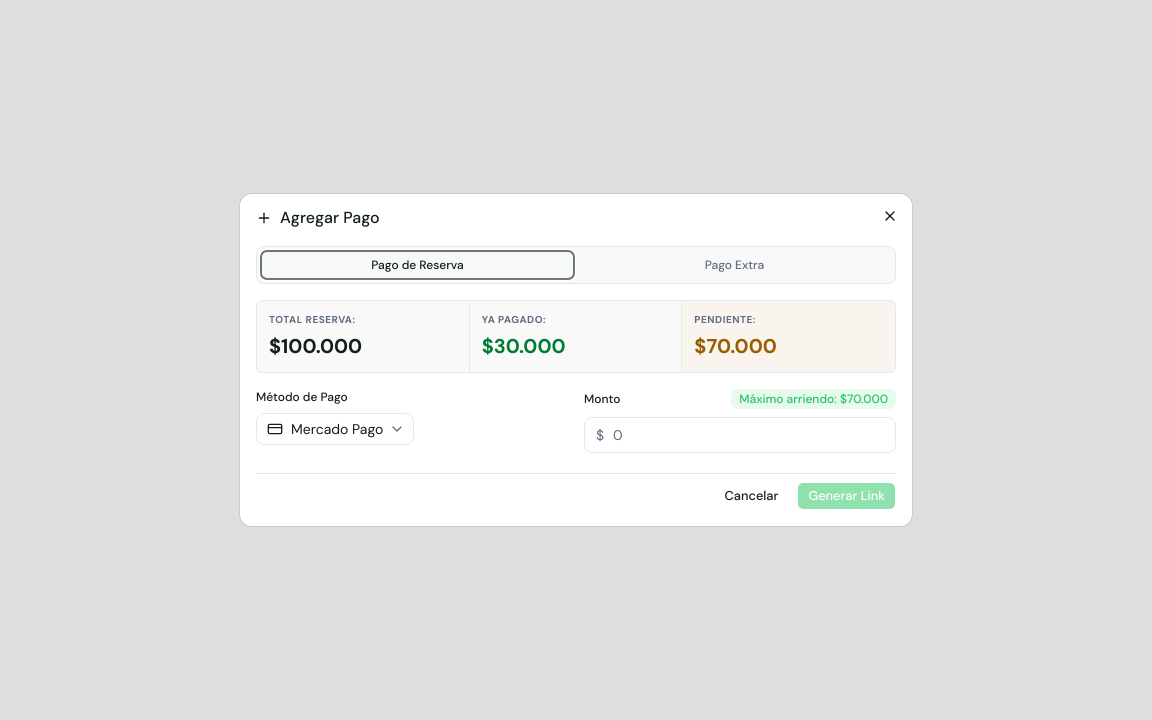
Scenario: AddPaymentDialog - paymentType selector › shows all 3 payment methods available in EXTRA mode
Click the radio button "Pago Extra". click: x=734, y=265
box: x1=578 y1=251 x2=891 y2=279
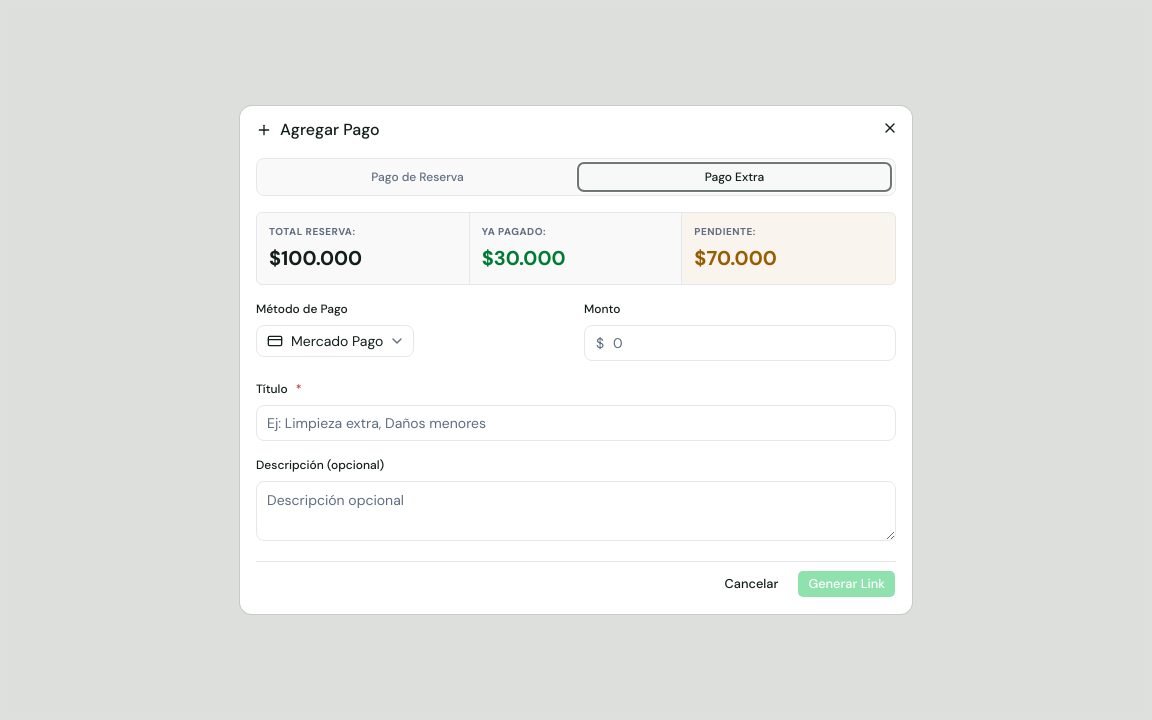
Click the dropdown. click: x=335, y=341
box: x1=256 y1=325 x2=414 y2=357
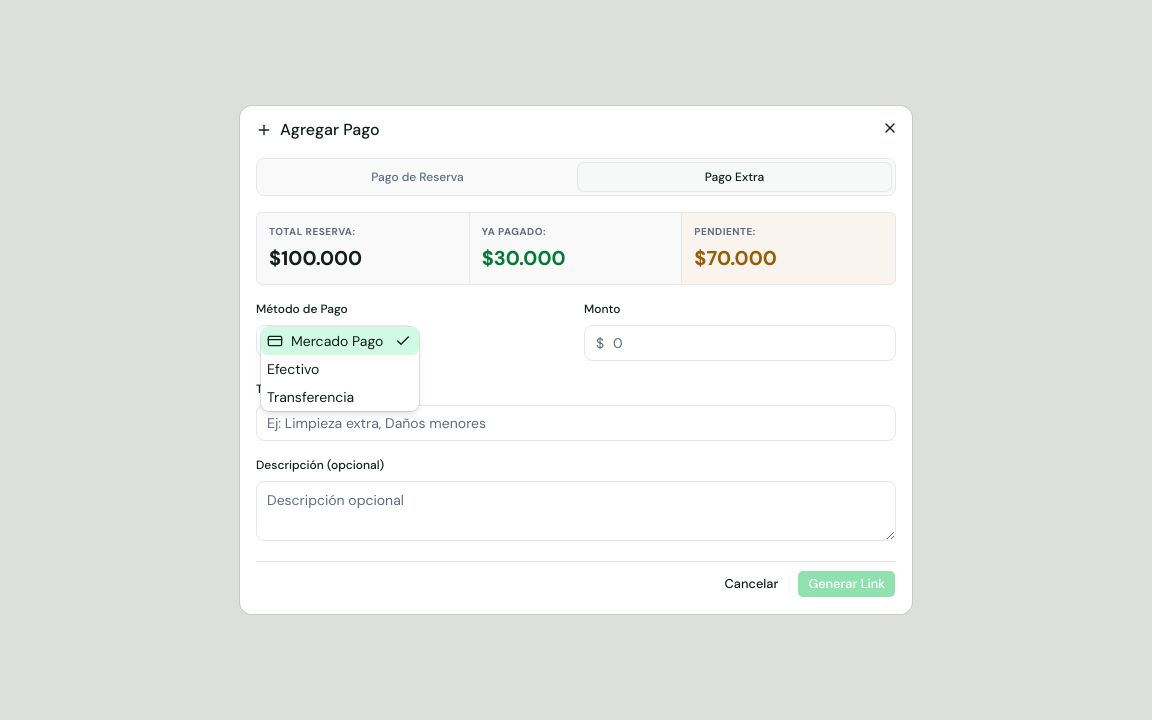
expect the text "Efectivo" is shown: met, box x1=267 y1=360 x2=319 y2=378
expect the text "Transferencia" is shown: met, box x1=267 y1=388 x2=354 y2=406
